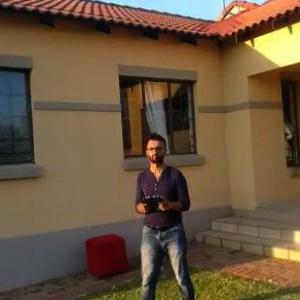follow: (121, 128, 196, 299)
